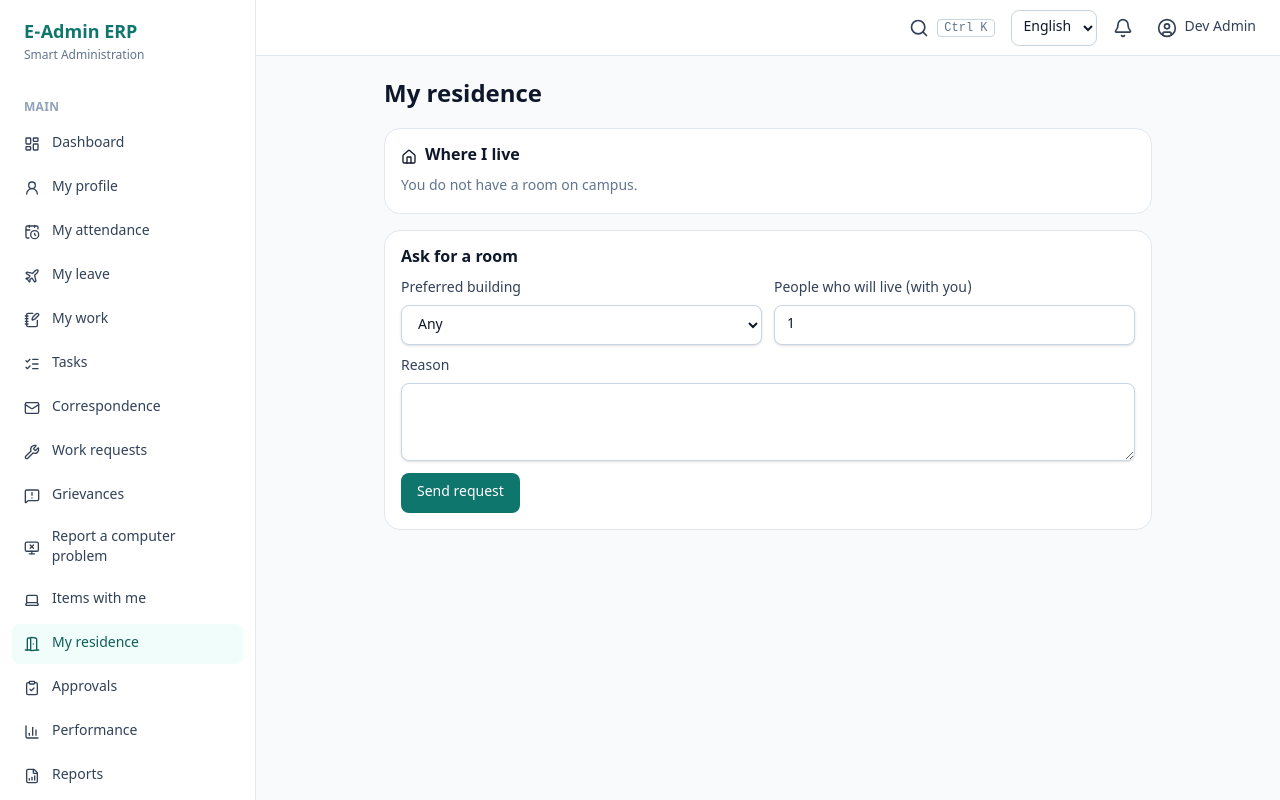
Test: residency › a staff member without a room asks for one
Expected: the text "You do not have a room on campus." is shown, [401,177,638,196]
Select "Staff Quarters A" in the dropdown labelled "Preferred building" at {"x": 582, "y": 325}, box [401,305,762,345]
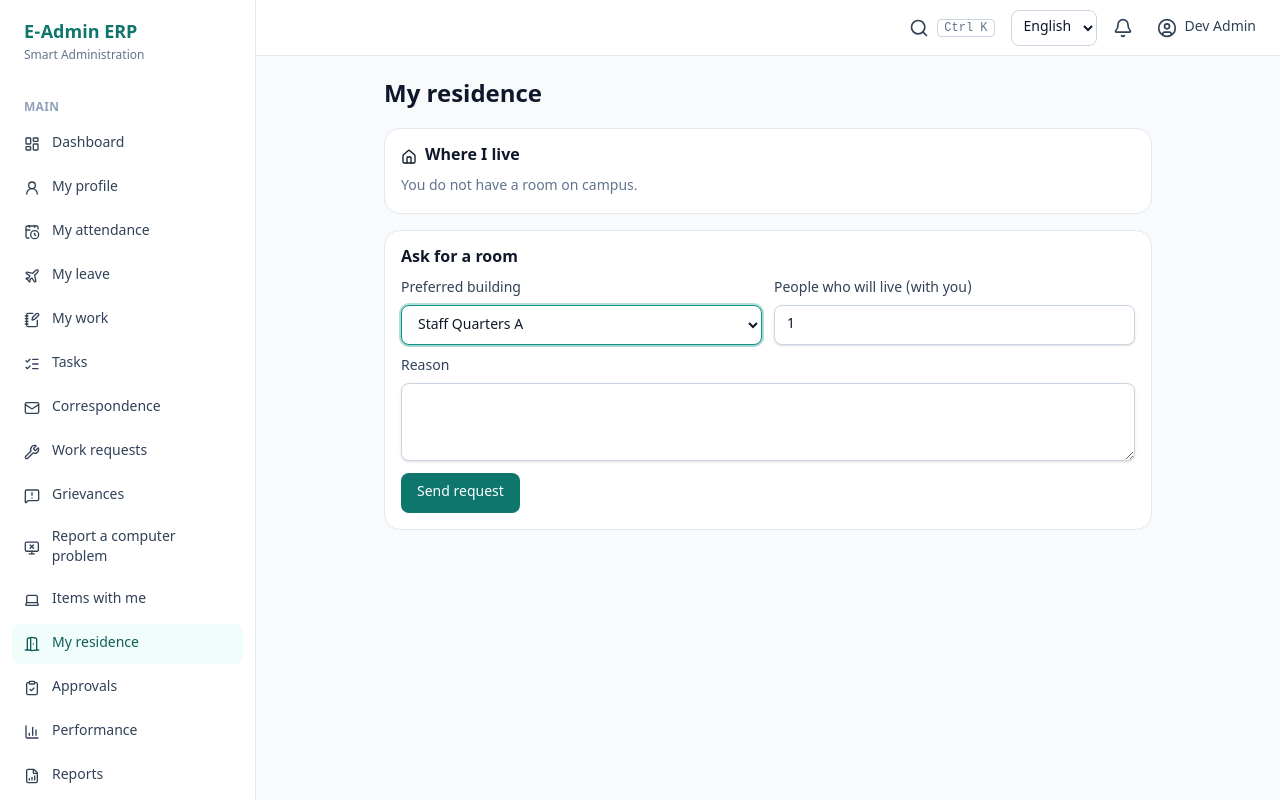
Replace the text in the number field labelled "People who will live (with you)" with "3" at {"x": 954, "y": 325}, box [774,305,1135,345]
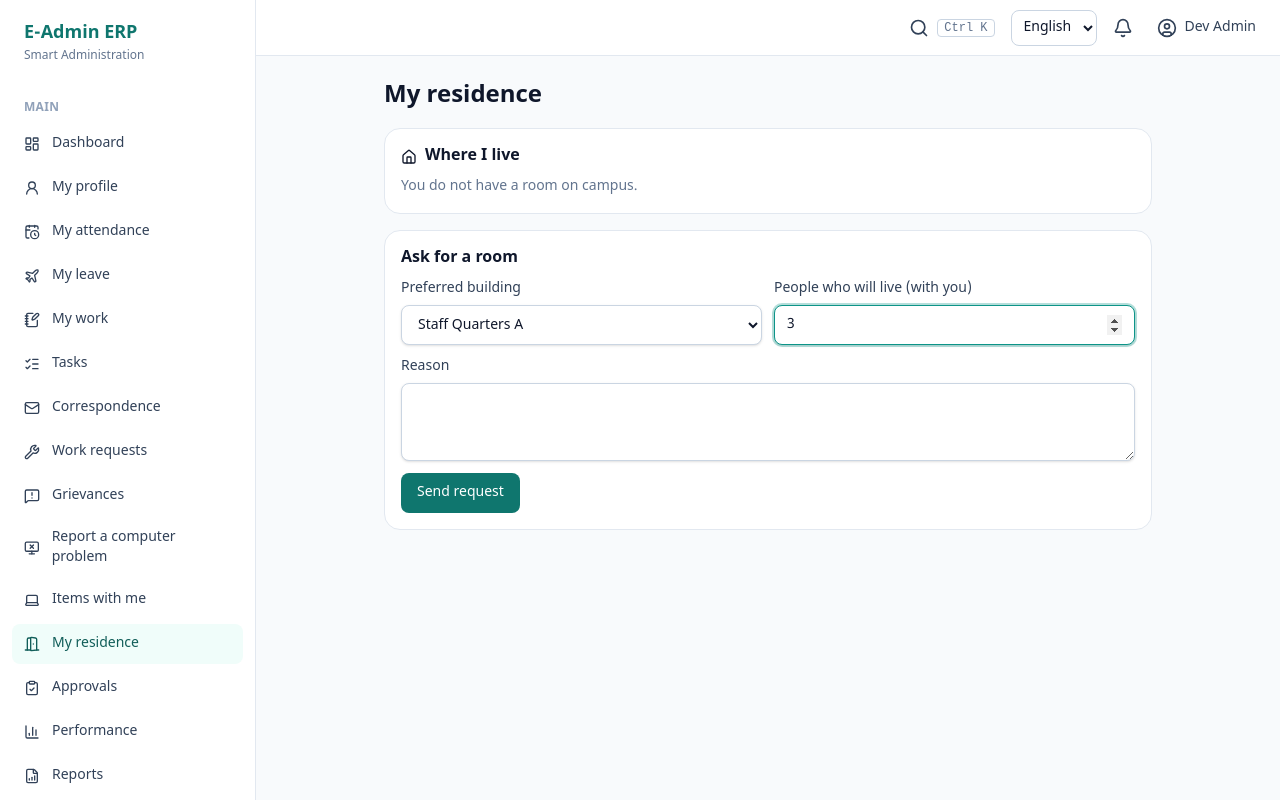
Click the button "Send request" at {"x": 460, "y": 493}, box [401,473,520,513]
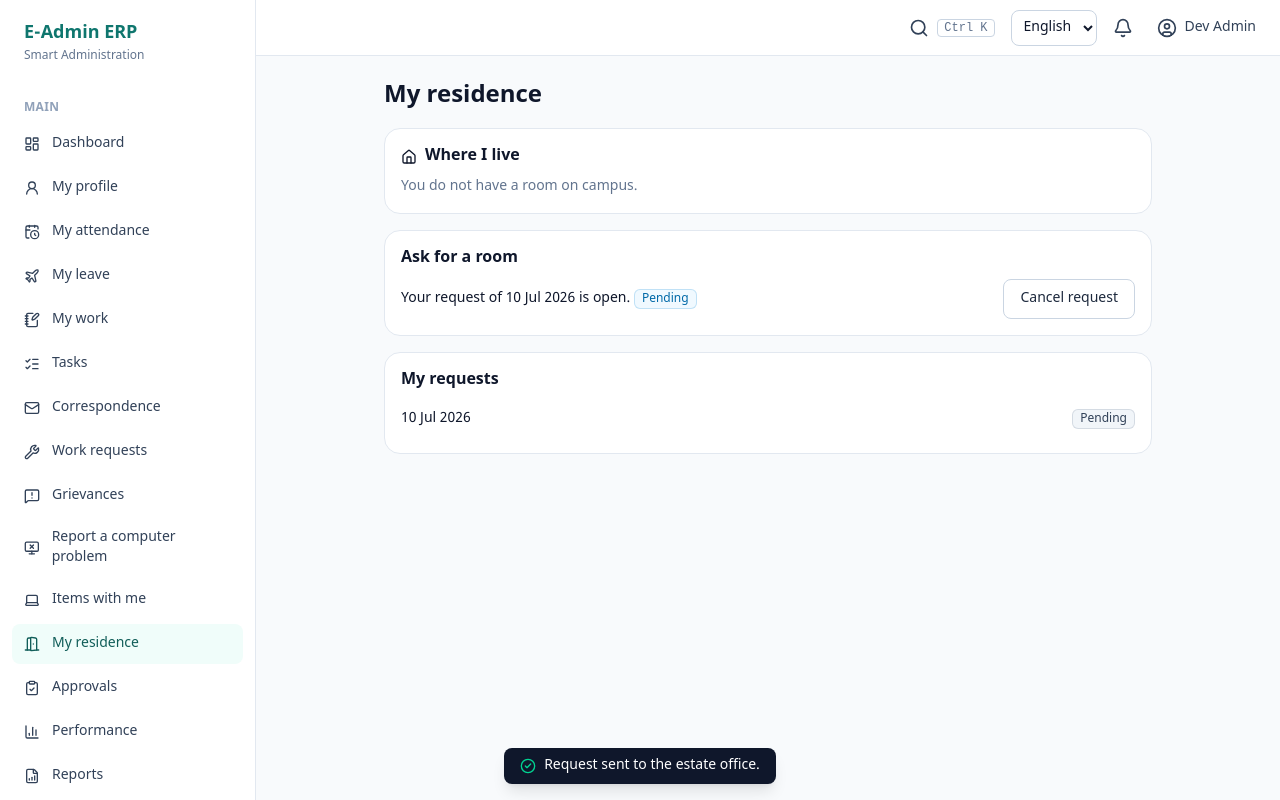
Expected: the text "Your request of 10 Jul 2026 is open." is shown, [401,289,630,308]
Expected: the button "Cancel request" is shown, [1004,279,1135,319]
